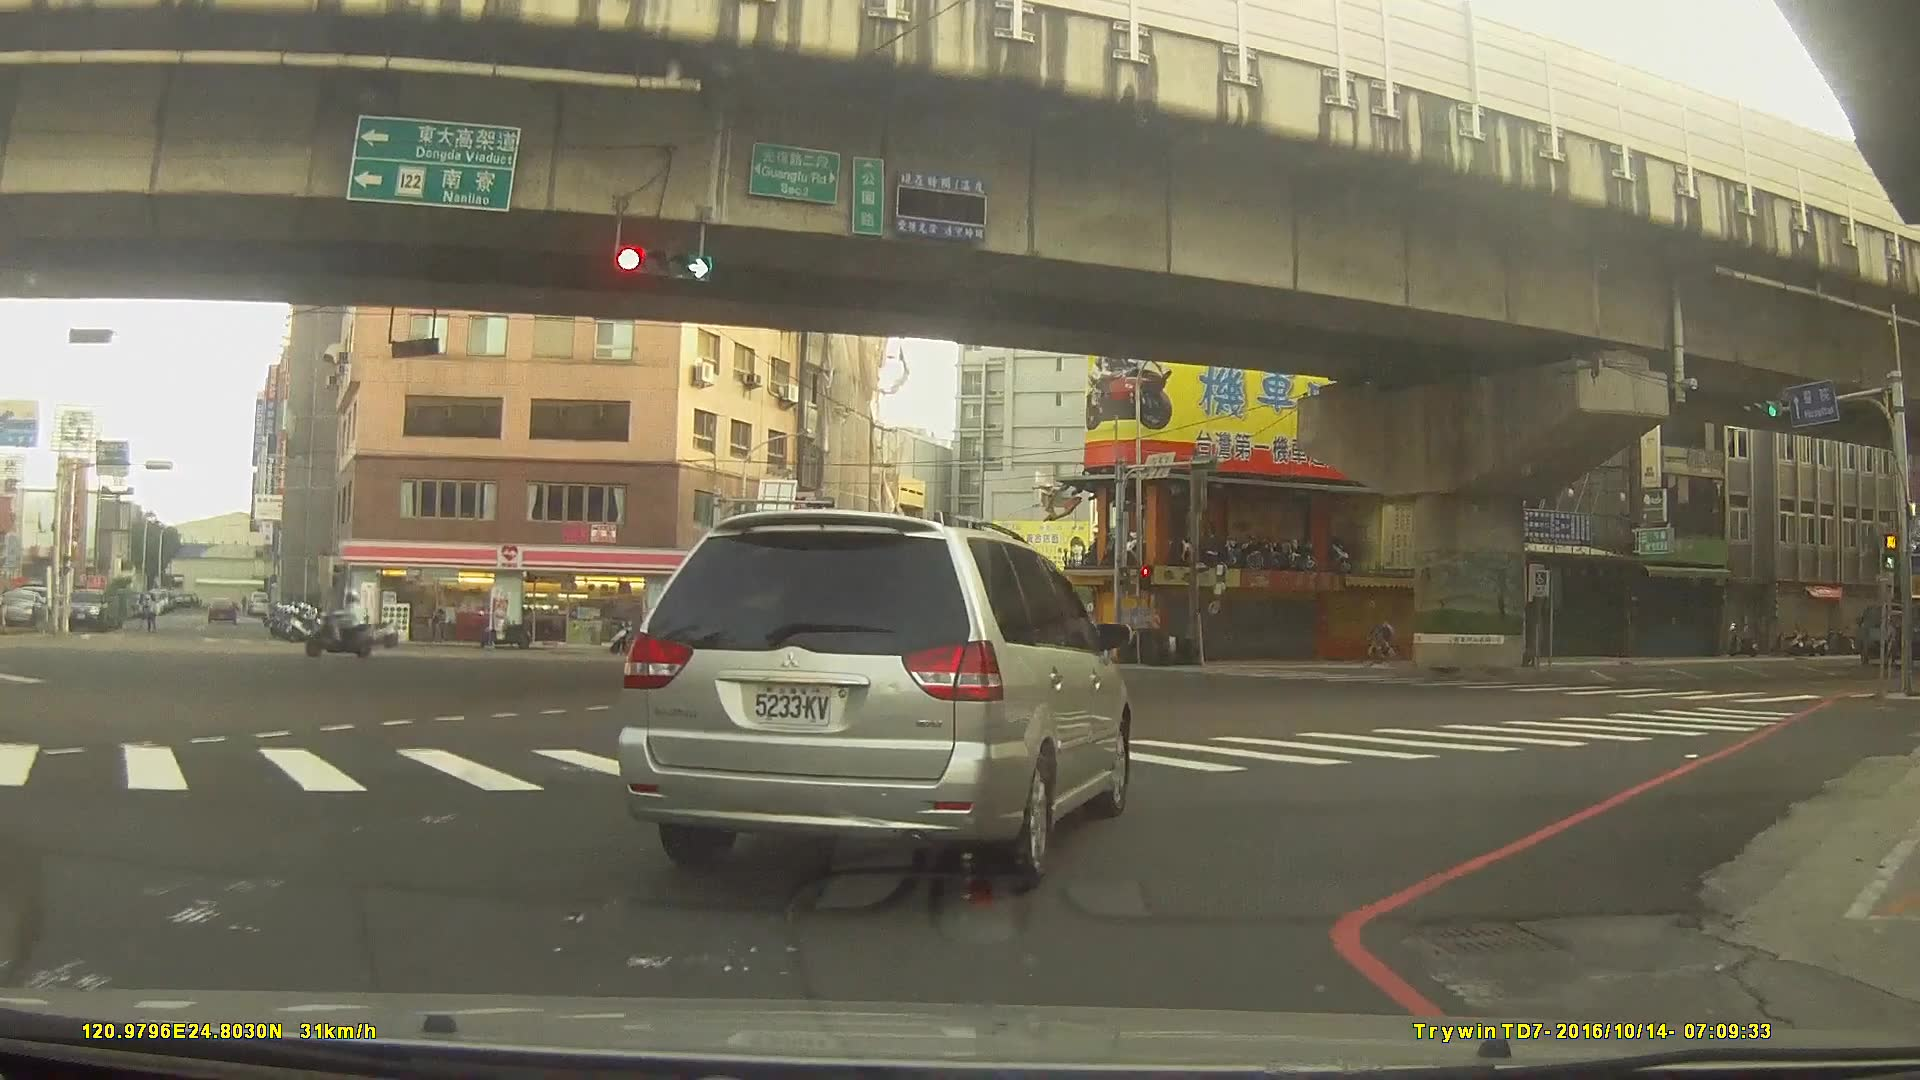rider: (307, 591, 384, 660), (1355, 612, 1403, 671)
vehicle: (613, 507, 1134, 881), (1854, 600, 1920, 664), (868, 628, 938, 668), (63, 585, 107, 630), (543, 606, 605, 633), (203, 594, 237, 622)
